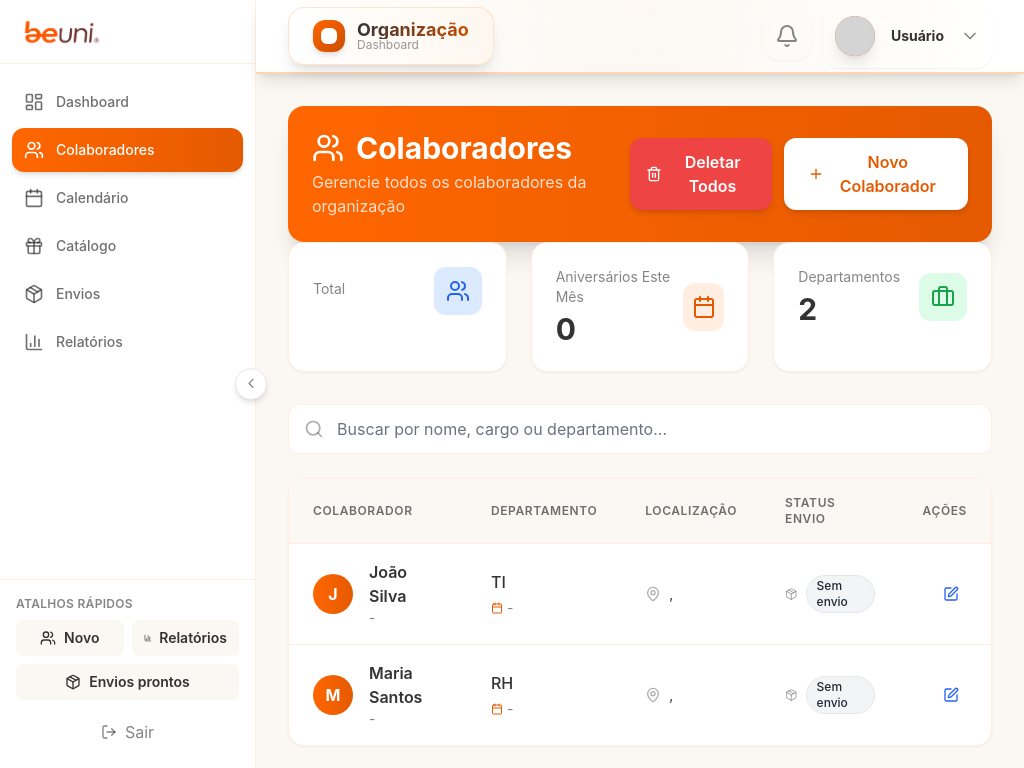
Test: ColaboradoresPage - Delete All Functionality › should show loading state during deletion
Open modal and confirm
Click the button "Deletar Todos": click(701, 174) top-left (630, 138), bottom-right (772, 210)
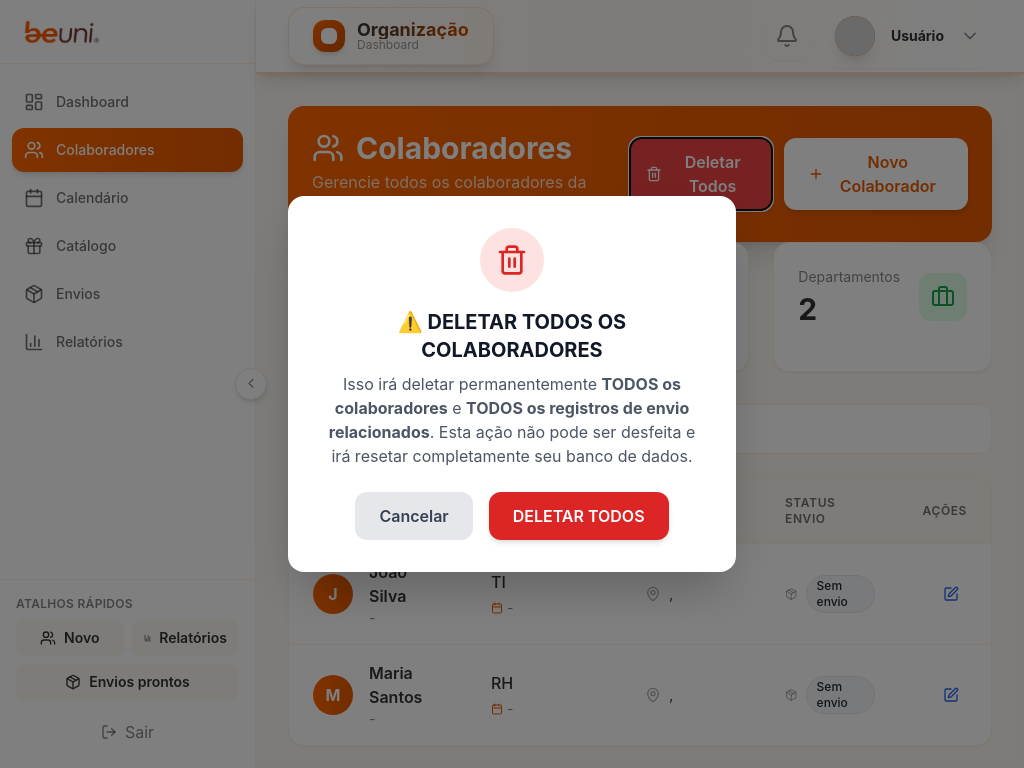
Click the button "DELETAR TODOS": click(579, 516) top-left (489, 492), bottom-right (669, 540)
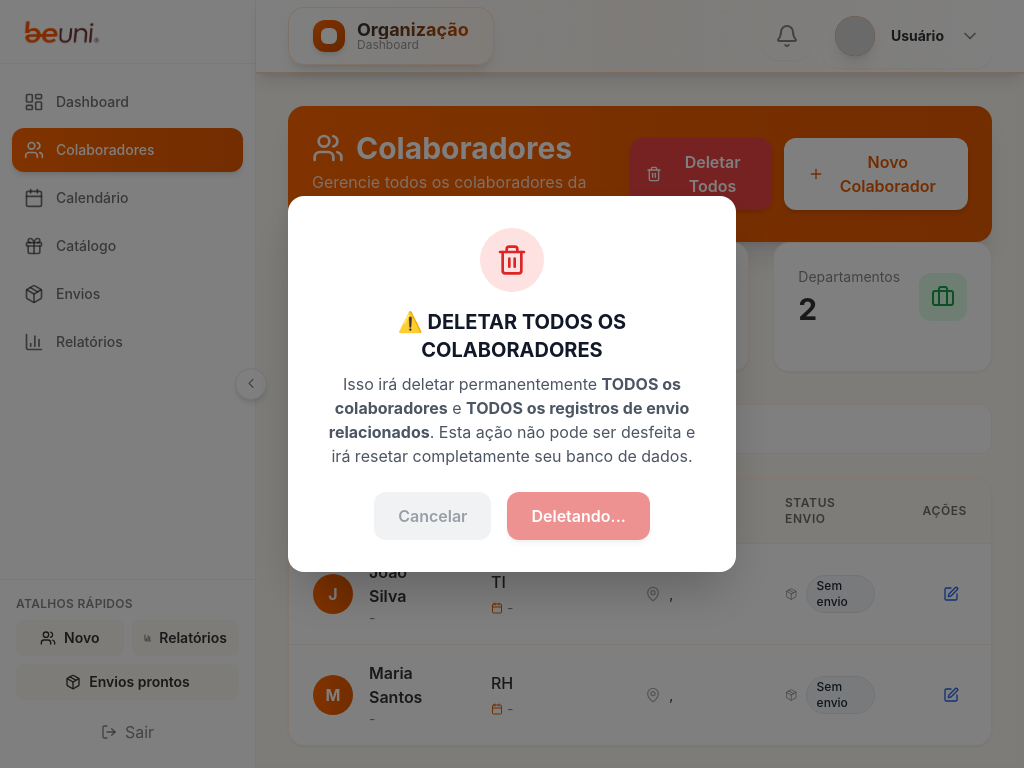
Expected: the button "Deletando..." is shown, top-left (507, 492), bottom-right (650, 540)
